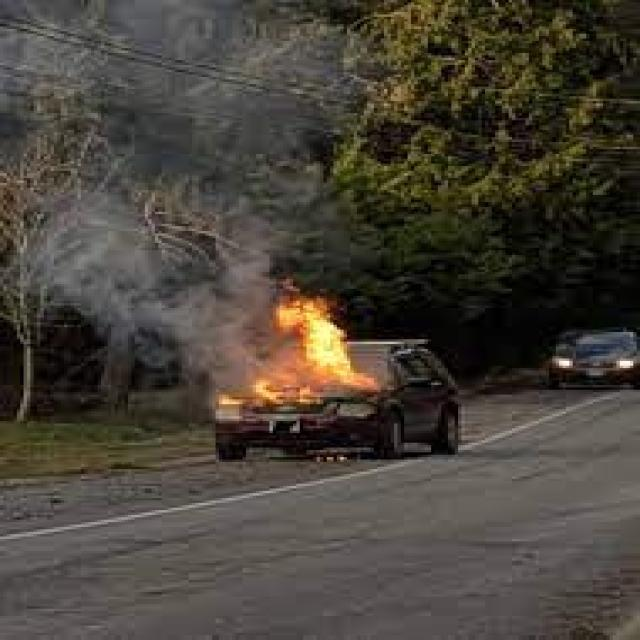fire: (299, 327, 352, 373), (276, 297, 336, 327)
